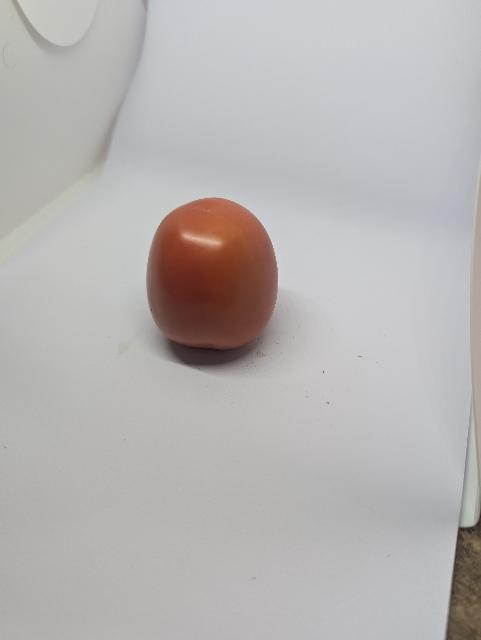red: (138, 192, 299, 378)
